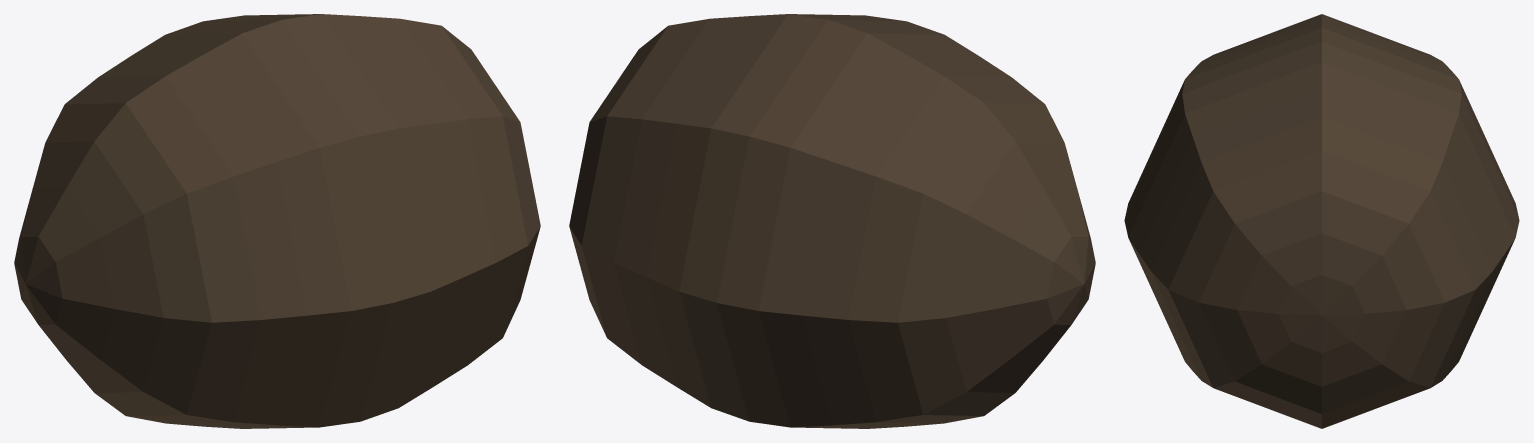
Rendered from coconut_brown.fbx.
The picture shows the model from 3 angles, left to right: view 1: azimuth 30°, elevation 25°; view 2: azimuth 150°, elevation 25°; view 3: azimuth 270°, elevation 25°; orthographic projection. The views are drawn at different scales.
Parts seen in each view (by area): view 1: coconut_brown; view 2: coconut_brown; view 3: coconut_brown.
Part boxes in pixels (box(x1,y1,x2,y2)): coconut_brown: box(14, 14, 540, 428); coconut_brown: box(569, 14, 1095, 428); coconut_brown: box(1124, 14, 1519, 428).
Bounding box in the file's own units: 220 × 178 × 178.
